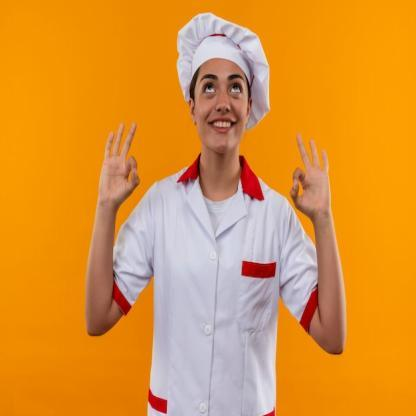ok: (286, 127, 334, 226), (97, 118, 141, 209)
